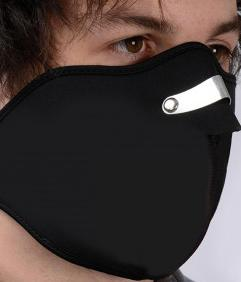with_mask: (1, 2, 241, 282)
